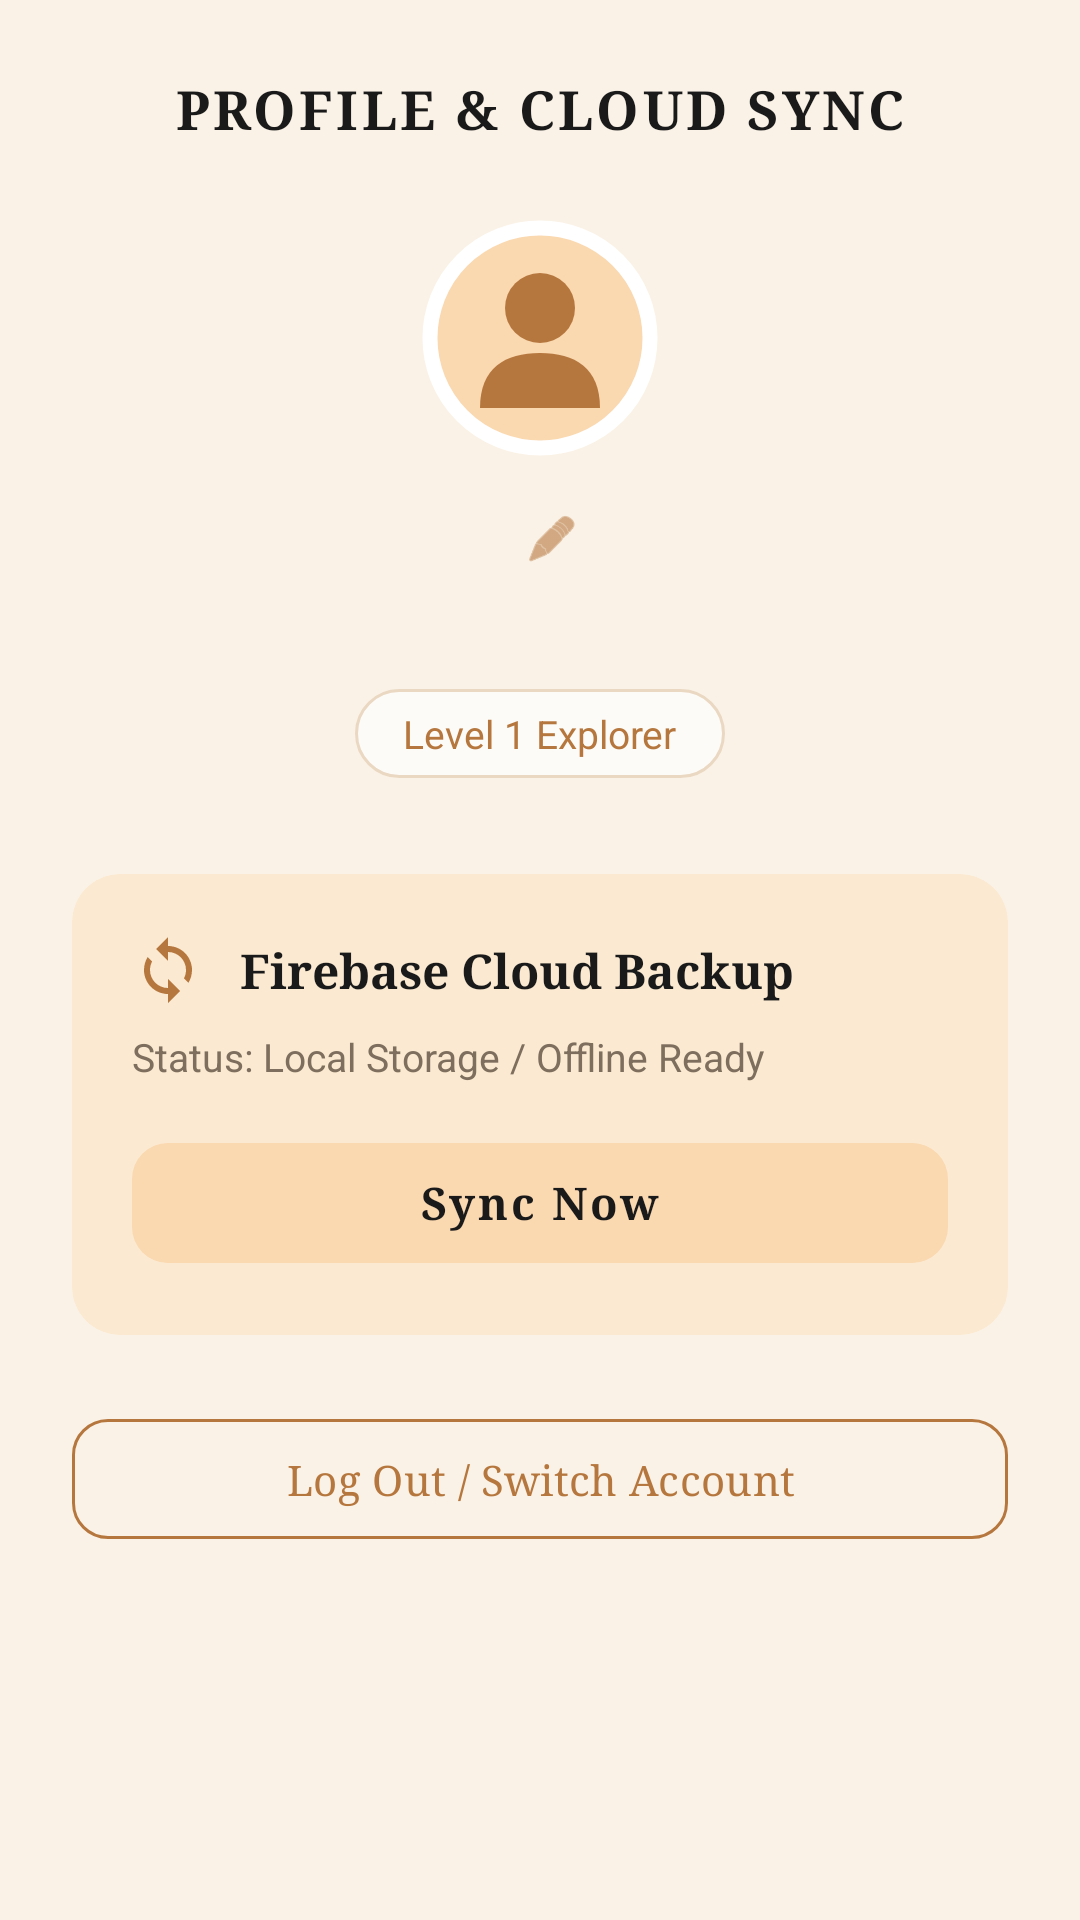

Where icons sit on this 1080w x 1920h app screen, as (x1, y1, x2, y2):
edit: (529, 516, 575, 561)
